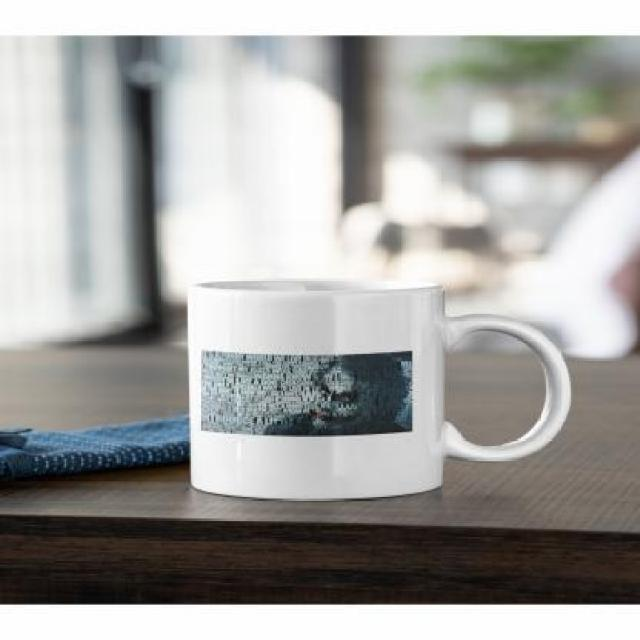taza: (190, 280, 575, 504)
